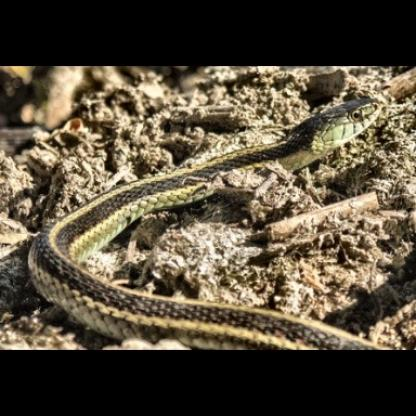Snake: (10, 89, 412, 328)
